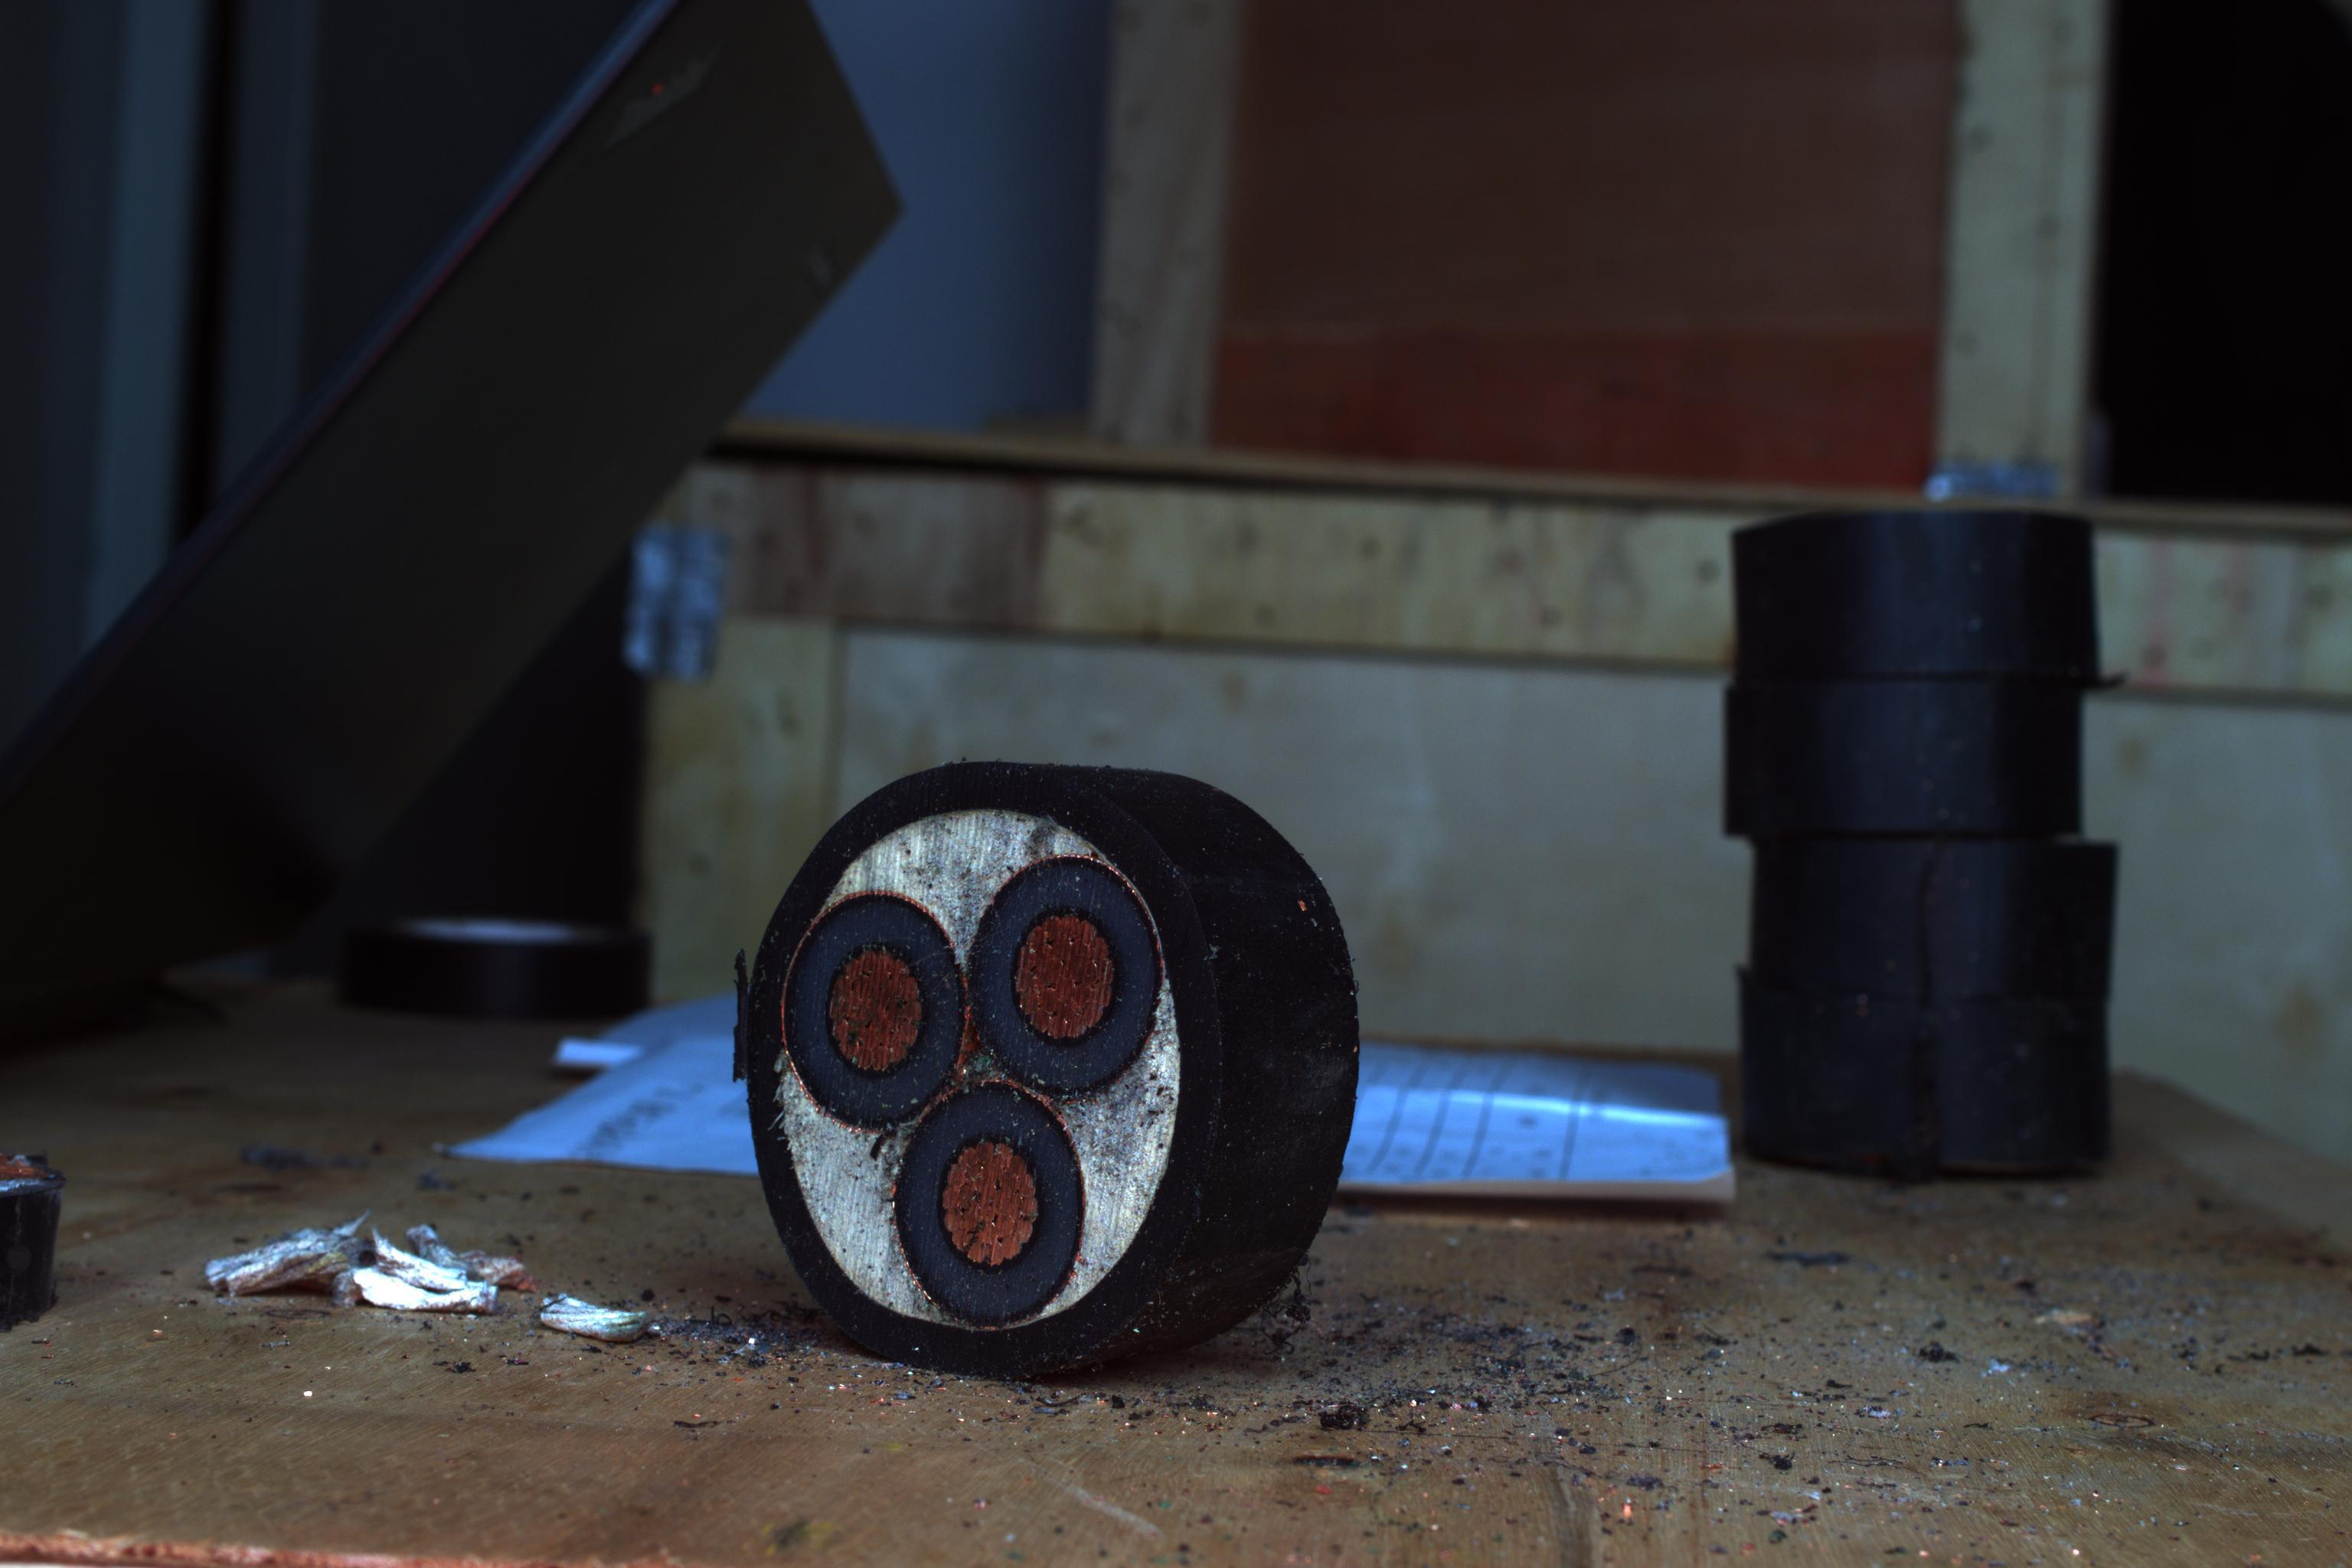ZA_YJV_8.7_10kV_3x120: (742, 775, 1213, 1340)
